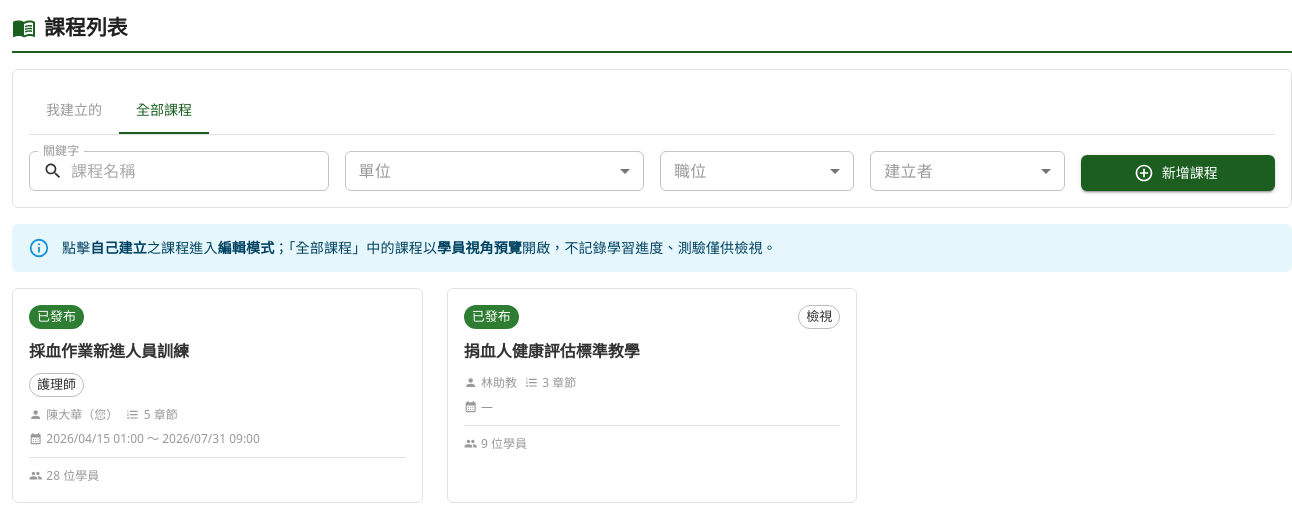
Test case: ET01 課程列表 › 單位／職位的「不篩」選項叫「不限」（#576） › 「建立者」下拉與「全部課程」分頁的文字不受影響（只改單位、職位兩欄）
Expected: the heading "採血作業新進人員訓練" is shown, top-left (29, 340), bottom-right (189, 362)
Expected: the tab "全部課程" is shown, top-left (119, 86), bottom-right (209, 134)
Step 1. Click the dropdown named "建立者" next to "建立者" → (967, 171), box top-left (870, 151), bottom-right (1065, 191)
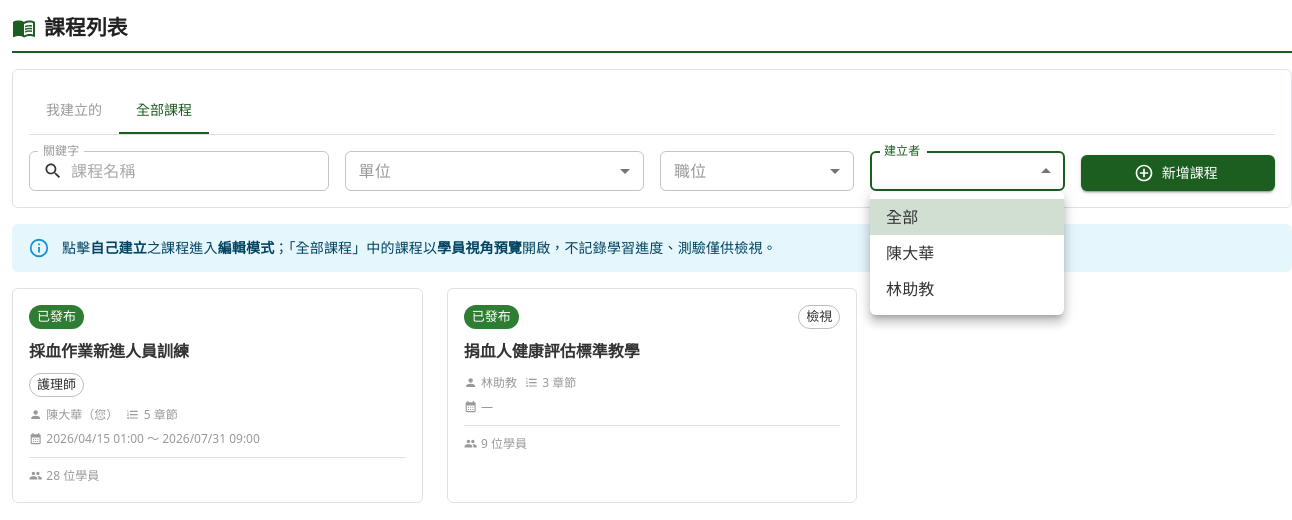
Expected: the option "全部" is shown, top-left (870, 199), bottom-right (1064, 235)
